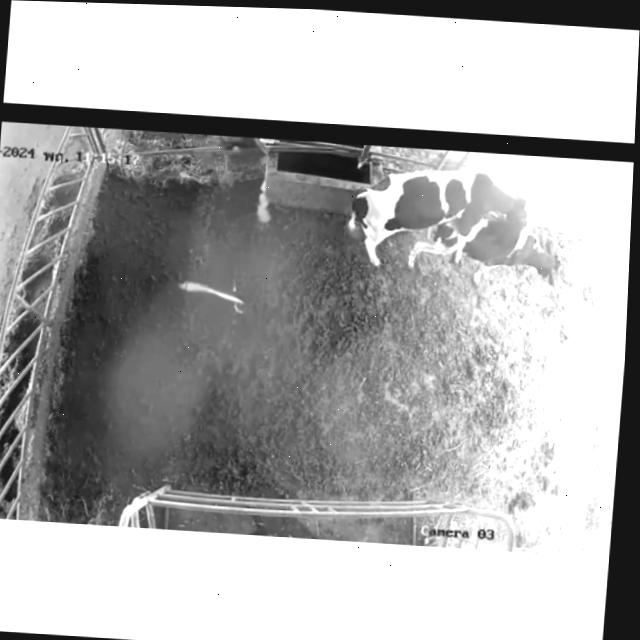ride: (347, 169, 526, 265)
stand: (462, 217, 557, 282), (409, 222, 459, 263)
